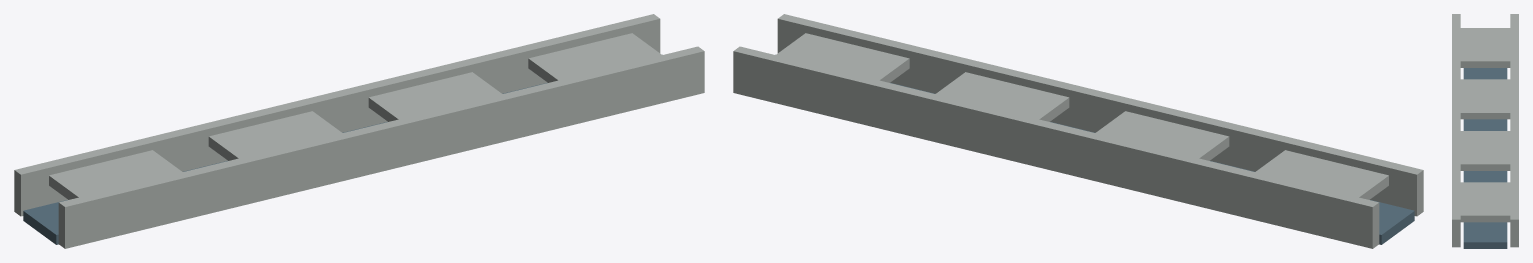
File: yaba_drainage_gutter.glb
3 views of the same model, side by side, from view 1: azimuth 30°, elevation 25°; view 2: azimuth 150°, elevation 25°; view 3: azimuth 270°, elevation 25° (orthographic). The views are drawn at different scales.
Visible parts, largest first — view 1: drain_right_wall, drain_left_wall, drain_cover_-3.0, drain_cover_-1.0, drain_cover_3.0, drain_cover_1.0, drain_channel; view 2: drain_left_wall, drain_right_wall, drain_cover_3.0, drain_cover_-3.0, drain_cover_-1.0, drain_cover_1.0, drain_channel; view 3: drain_channel, drain_left_wall, drain_right_wall, drain_cover_3.0, drain_cover_-1.0, drain_cover_1.0, drain_cover_-3.0.
Part boxes in pixels (bbox=[...]): drain_right_wall: bbox=[58, 46, 704, 248]; drain_left_wall: bbox=[14, 14, 660, 216]; drain_cover_-3.0: bbox=[49, 150, 196, 217]; drain_cover_-1.0: bbox=[208, 111, 356, 178]; drain_cover_3.0: bbox=[528, 33, 676, 92]; drain_cover_1.0: bbox=[368, 72, 515, 121]; drain_channel: bbox=[23, 54, 662, 244]; drain_left_wall: bbox=[733, 46, 1379, 248]; drain_right_wall: bbox=[777, 14, 1423, 216]; drain_cover_3.0: bbox=[761, 33, 909, 100]; drain_cover_-3.0: bbox=[1241, 150, 1388, 217]; drain_cover_-1.0: bbox=[1081, 111, 1229, 177]; drain_cover_1.0: bbox=[921, 72, 1069, 132]; drain_channel: bbox=[775, 54, 1414, 244]; drain_channel: bbox=[1463, 68, 1507, 248]; drain_left_wall: bbox=[1510, 14, 1518, 247]; drain_right_wall: bbox=[1452, 14, 1460, 247]; drain_cover_3.0: bbox=[1460, 182, 1510, 222]; drain_cover_-1.0: bbox=[1460, 79, 1510, 119]; drain_cover_1.0: bbox=[1460, 131, 1510, 170]; drain_cover_-3.0: bbox=[1460, 28, 1510, 67].
Size of what is drawn, in the model's own units: 8 by 0.53 by 1.1.
